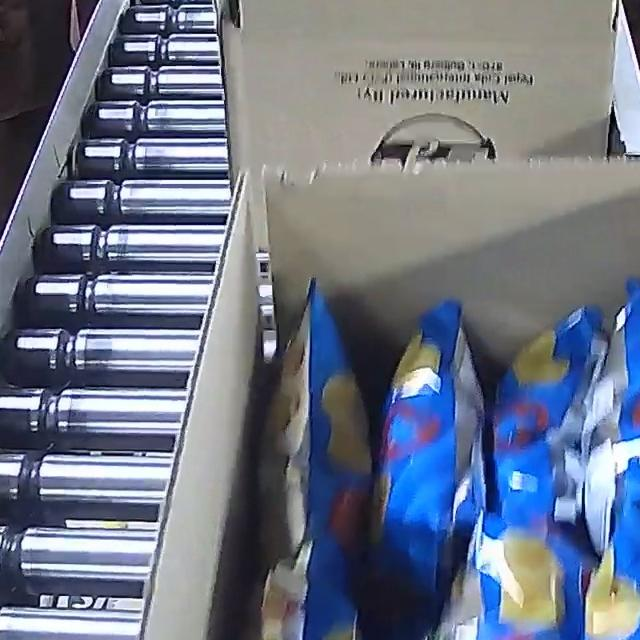paprika: (250, 272, 640, 640)
